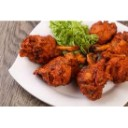chicken_lollipop: (78, 54, 115, 96), (21, 34, 80, 58), (35, 54, 81, 84), (94, 32, 128, 55), (89, 17, 116, 45)
